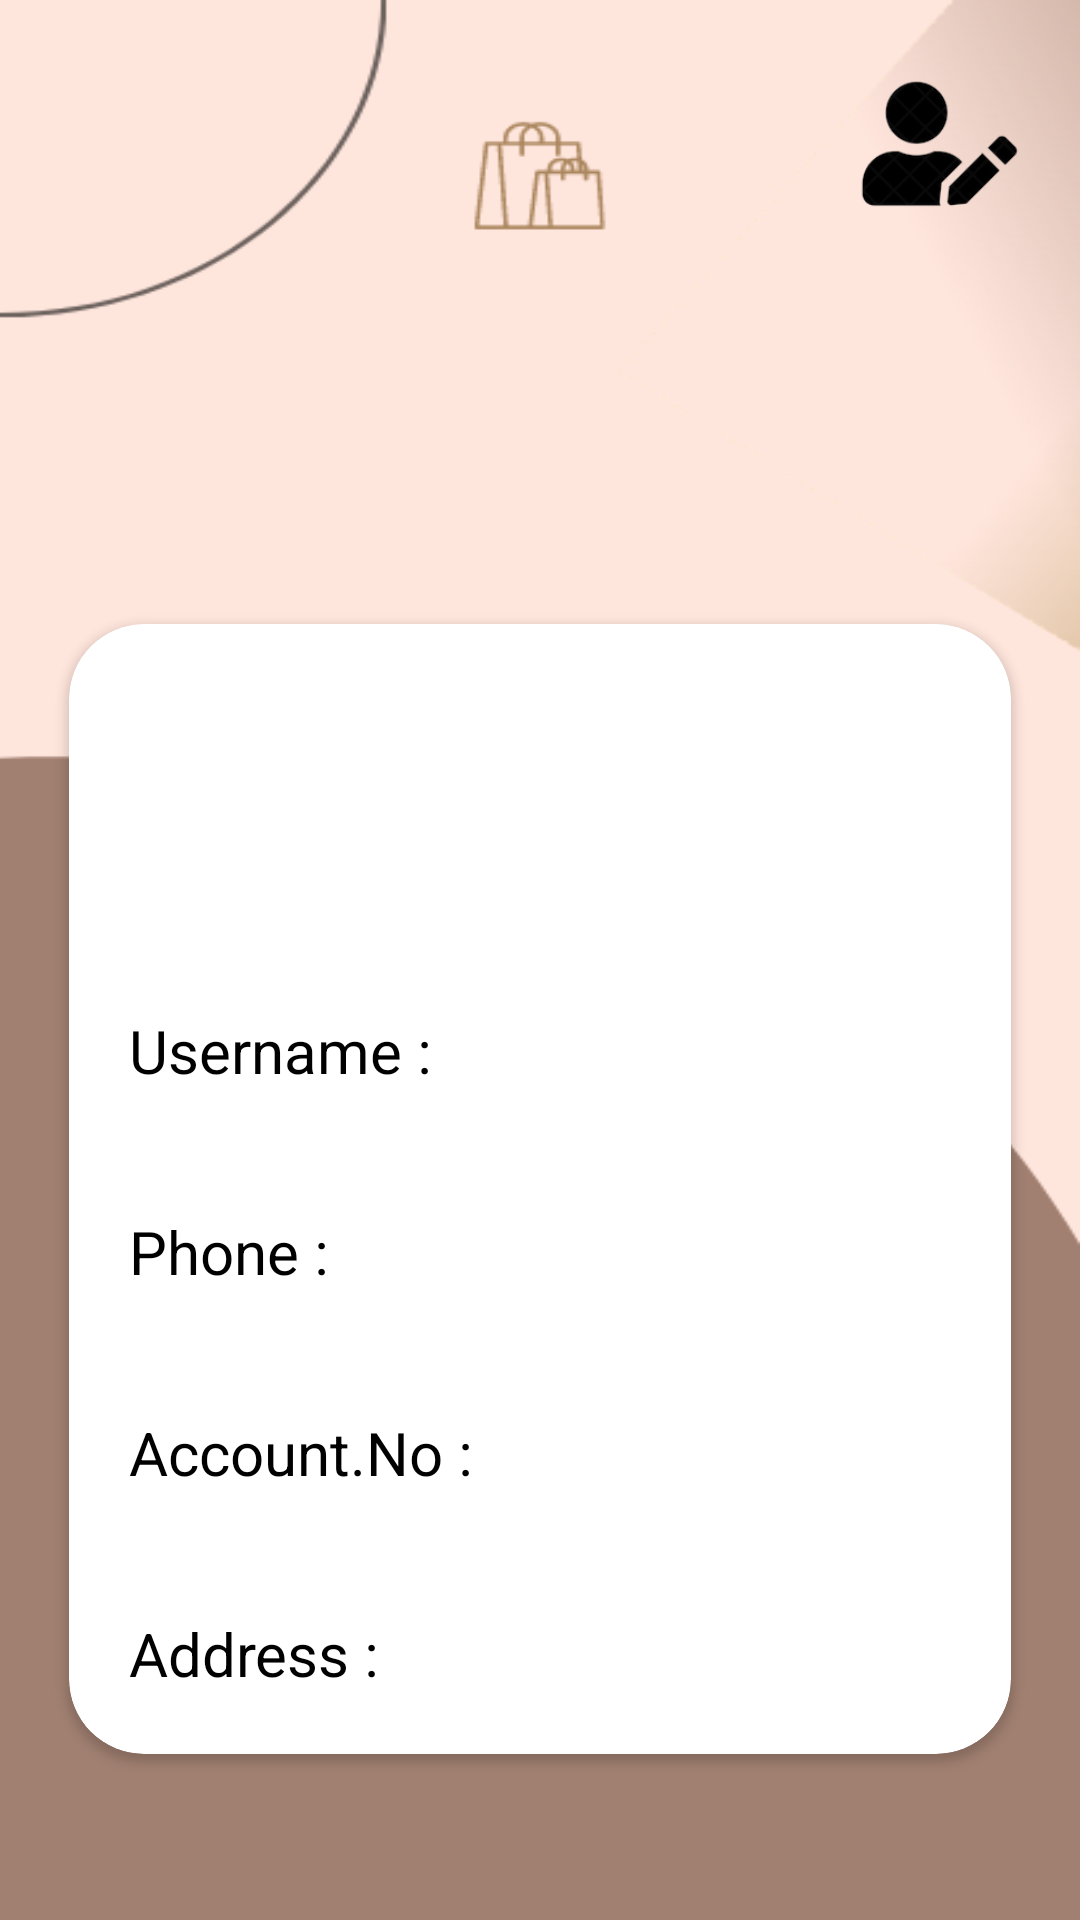

Screen size 1080w x 1920h. Icon name, then its box in pixels as bbox(x1, y1, x2, y2):
editprofile: bbox(862, 78, 1000, 206)
